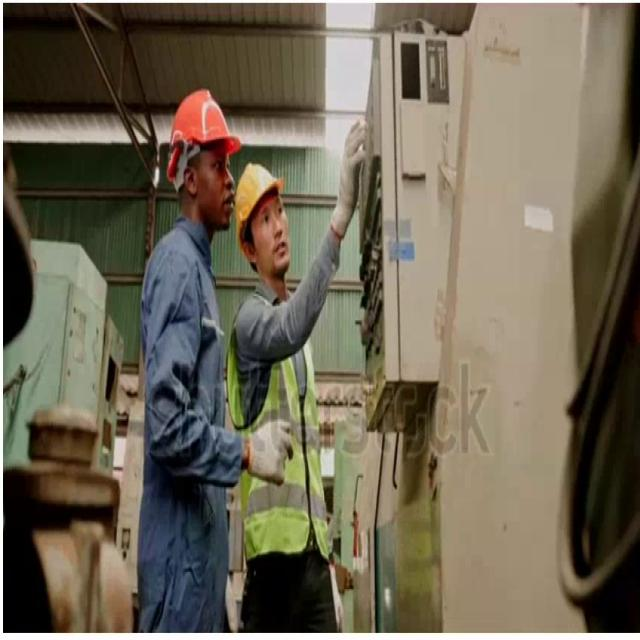gloved: (330, 118, 367, 240), (245, 418, 293, 486)
not-gloved: (328, 564, 344, 632)
